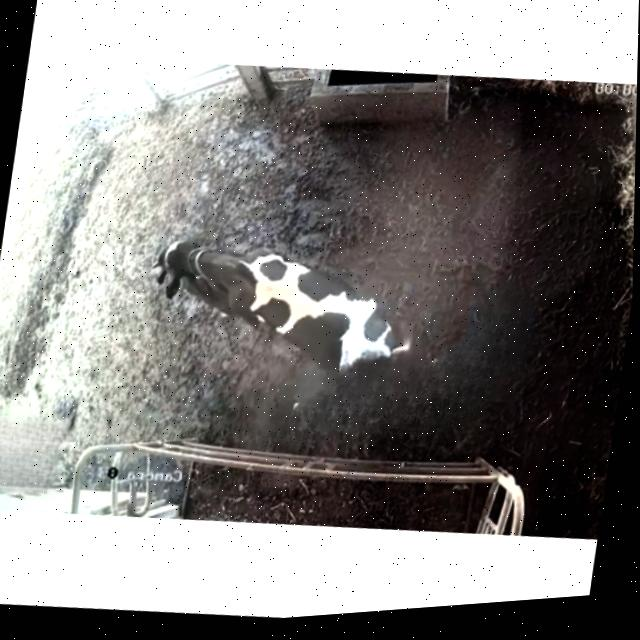ride: (142, 204, 455, 406)
